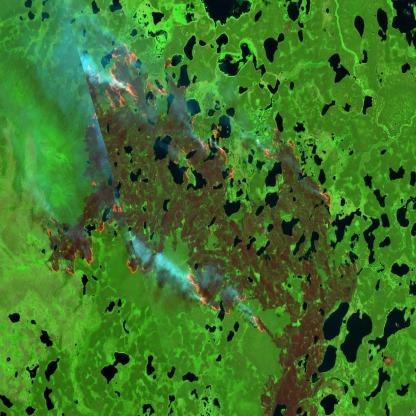fire: (45, 200, 266, 335), (82, 38, 240, 192), (262, 126, 303, 177), (309, 178, 338, 221)
